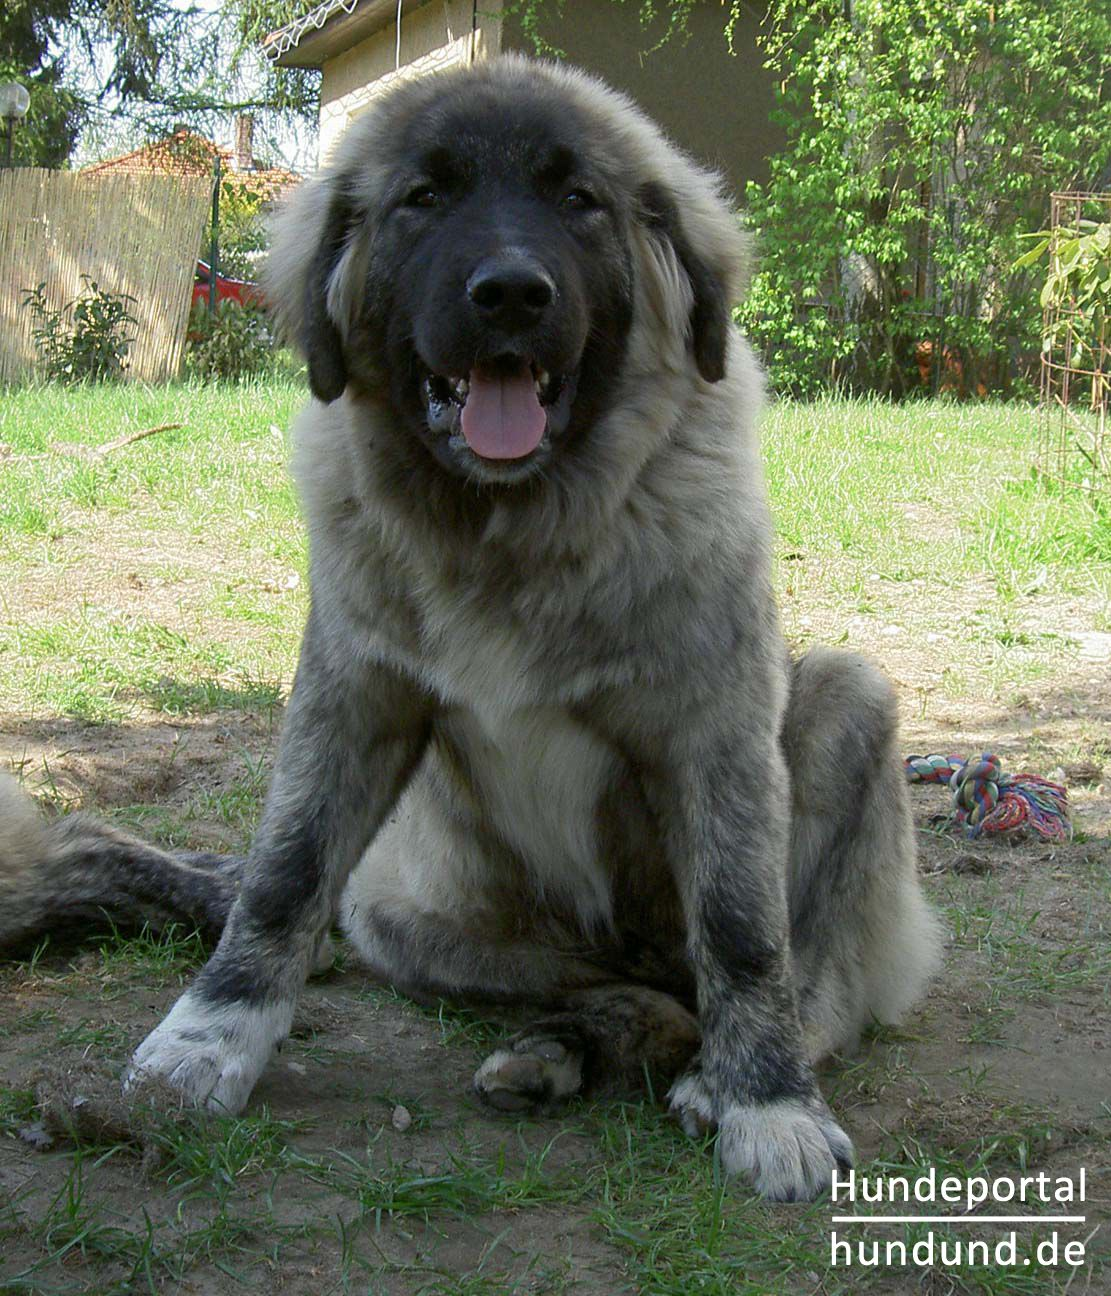cau_ovcharka: (1, 47, 940, 1209)
